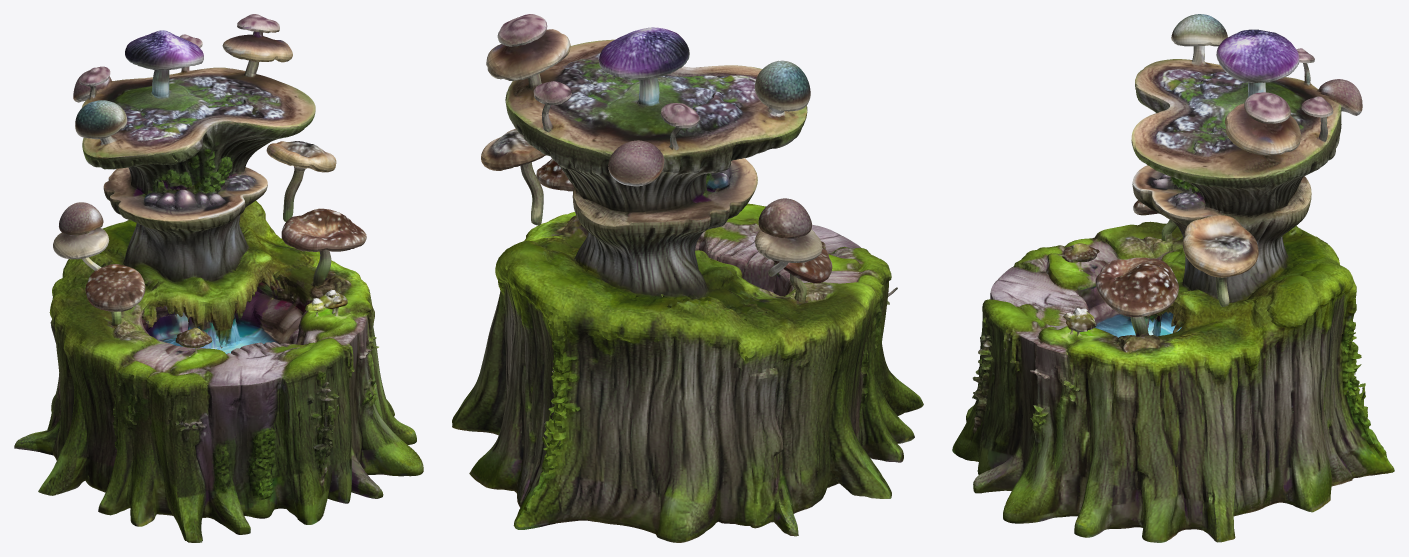
File: Meshy_AI_Mushroom_Citadel_on_a_1017073012_texture.fbx
3 views of the same model, side by side, from view 1: azimuth 30°, elevation 25°; view 2: azimuth 150°, elevation 25°; view 3: azimuth 270°, elevation 25° (orthographic). The views are drawn at different scales.
Visible parts, largest first — view 1: temp; view 2: temp; view 3: temp.
Boxes of the visible parts, x1,y1,x2,y2 form: temp: (14, 14, 423, 542); temp: (452, 14, 923, 542); temp: (952, 14, 1394, 542).
Bounding box in the file's own units: 180 × 191 × 185.
Materials: 1 (1 with a texture image).
